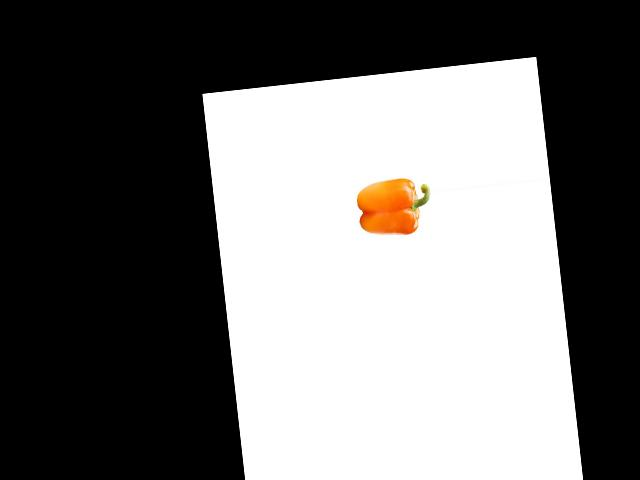bell_pepper: (353, 169, 435, 245)
